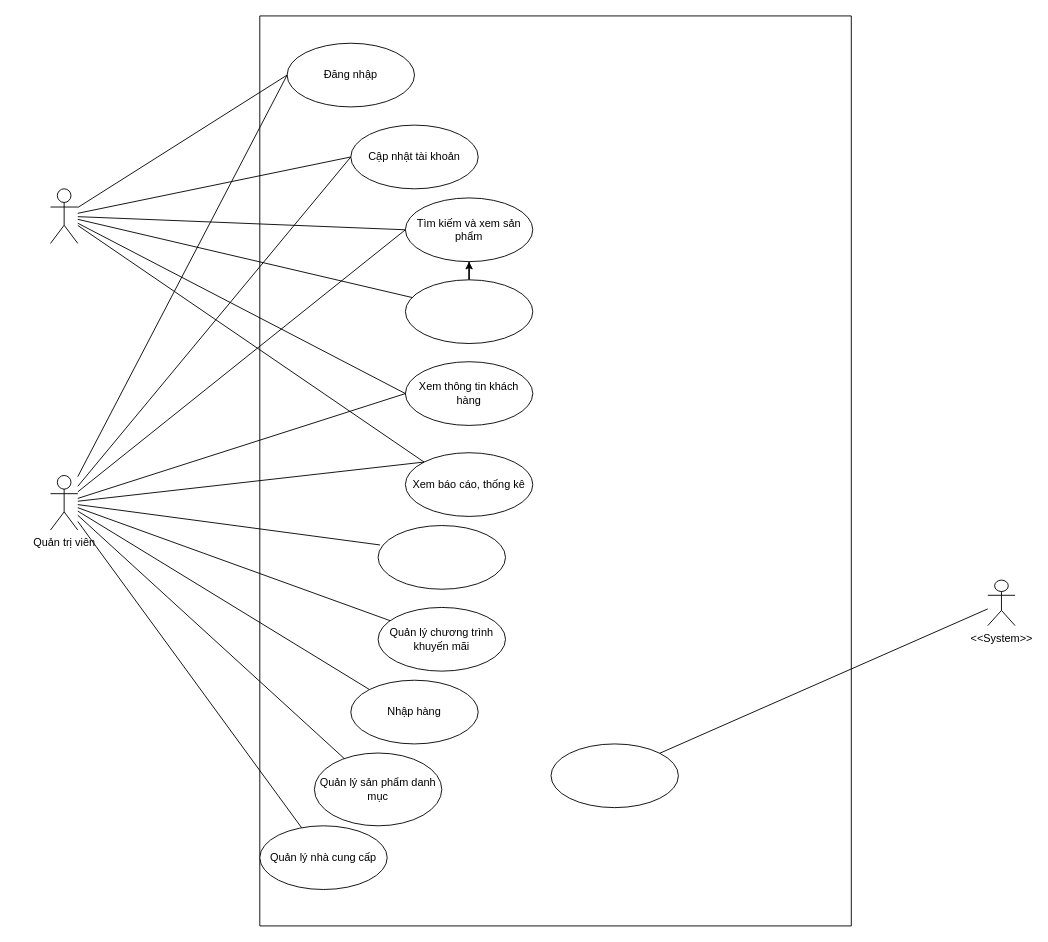
This 1048x942 diagram has some shape labels left out. The shapes that lost their labels are listed below. From the top down, each one's box as (x1, y1, x2, y2) in pixels, then its label:
(50, 188, 78, 243): Nhân viên bán hàng
(404, 279, 533, 344): Tạo đơn hàng
(377, 525, 506, 589): Quản lý tài khoản
(550, 743, 678, 808): Tạo khách hàng mới
